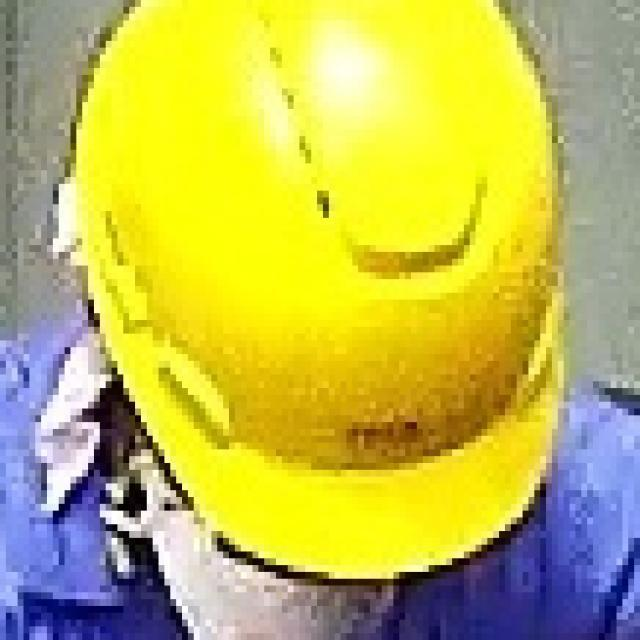yellow helmet: (51, 1, 576, 591)
